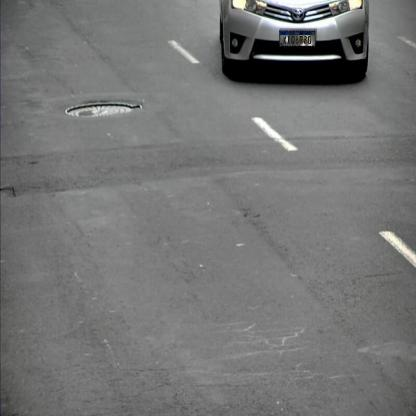PlacaM: (279, 30, 316, 46)
